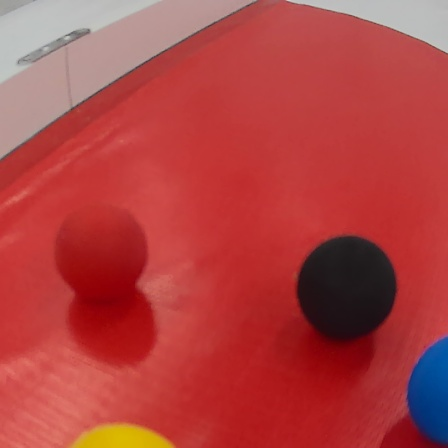black: (296, 233, 403, 346)
blue: (409, 335, 448, 444)
red: (55, 205, 151, 298)
red_base: (0, 1, 448, 447)
